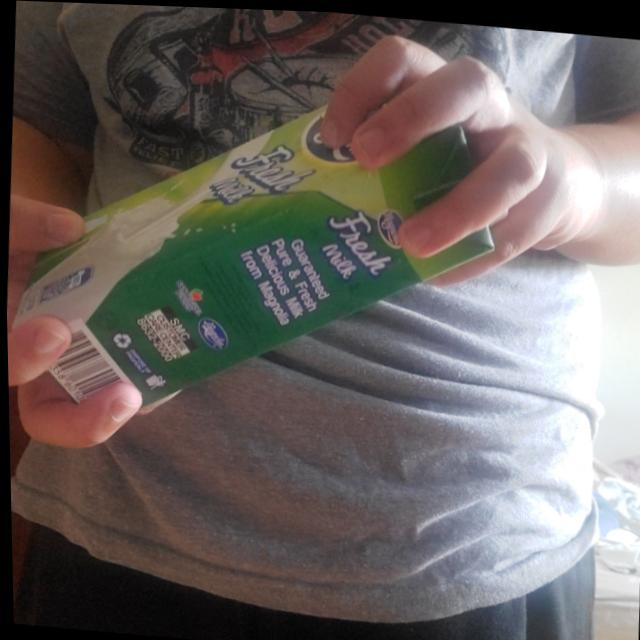milk: (1, 50, 505, 450)
